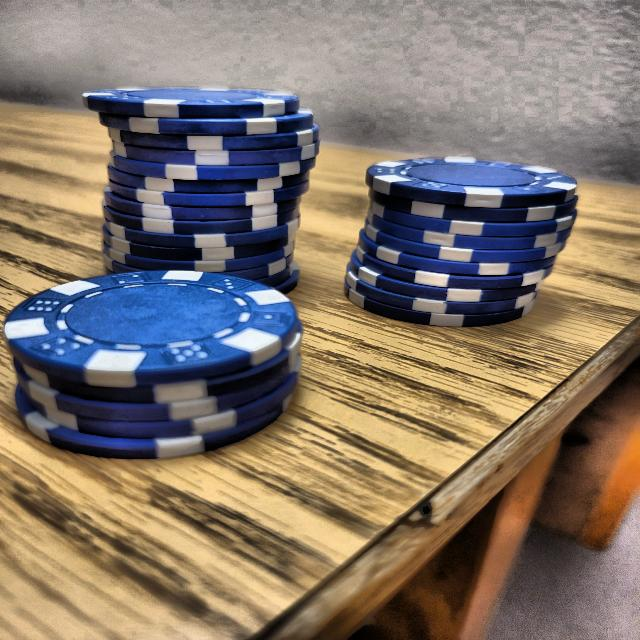Chip: (15, 257, 324, 464), (80, 68, 332, 287), (337, 141, 582, 340)
